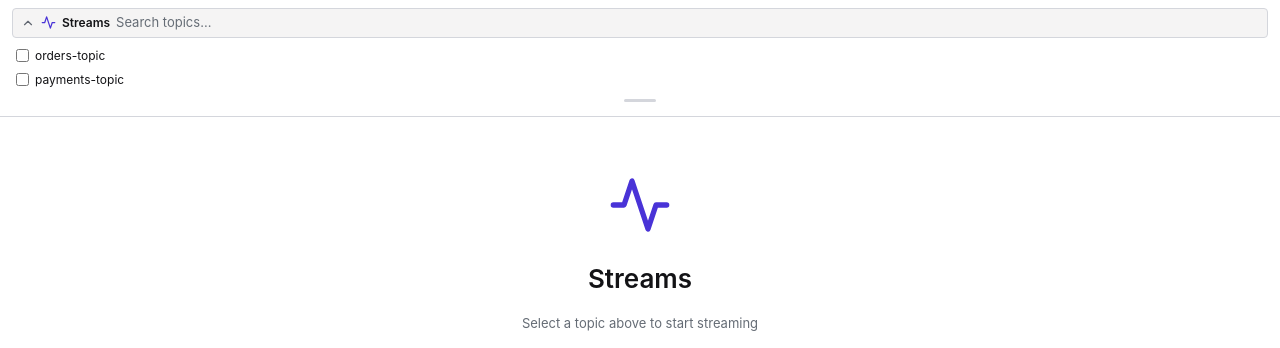
it: [@stream-panel-expanded] StreamsPanel Expanded Coverage › [@stream-panel-expanded] Search Functionality › filters topics by name as user types
Type "orders" into the field with placeholder "Search topics...". click: (688, 23)
box: [116, 13, 1259, 32]
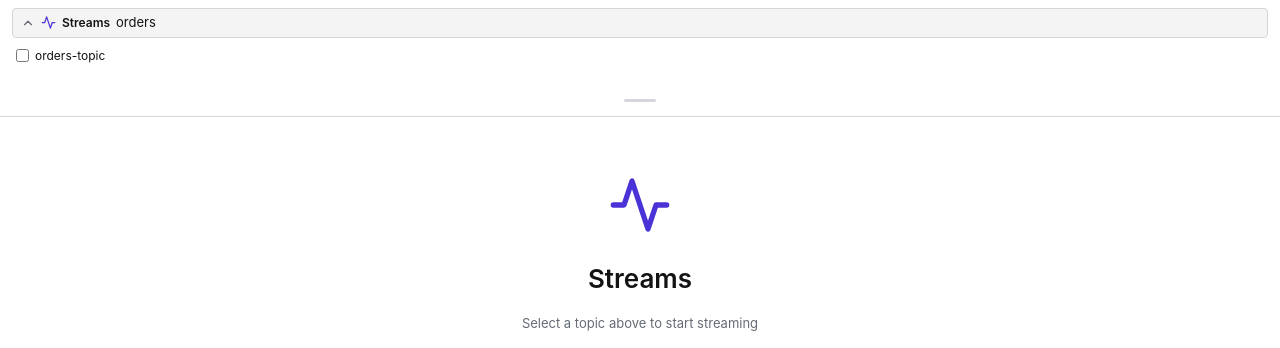
Check: the text "orders-topic" is shown, box [35, 46, 105, 64]
Check: the text "payments-topic" is gone
